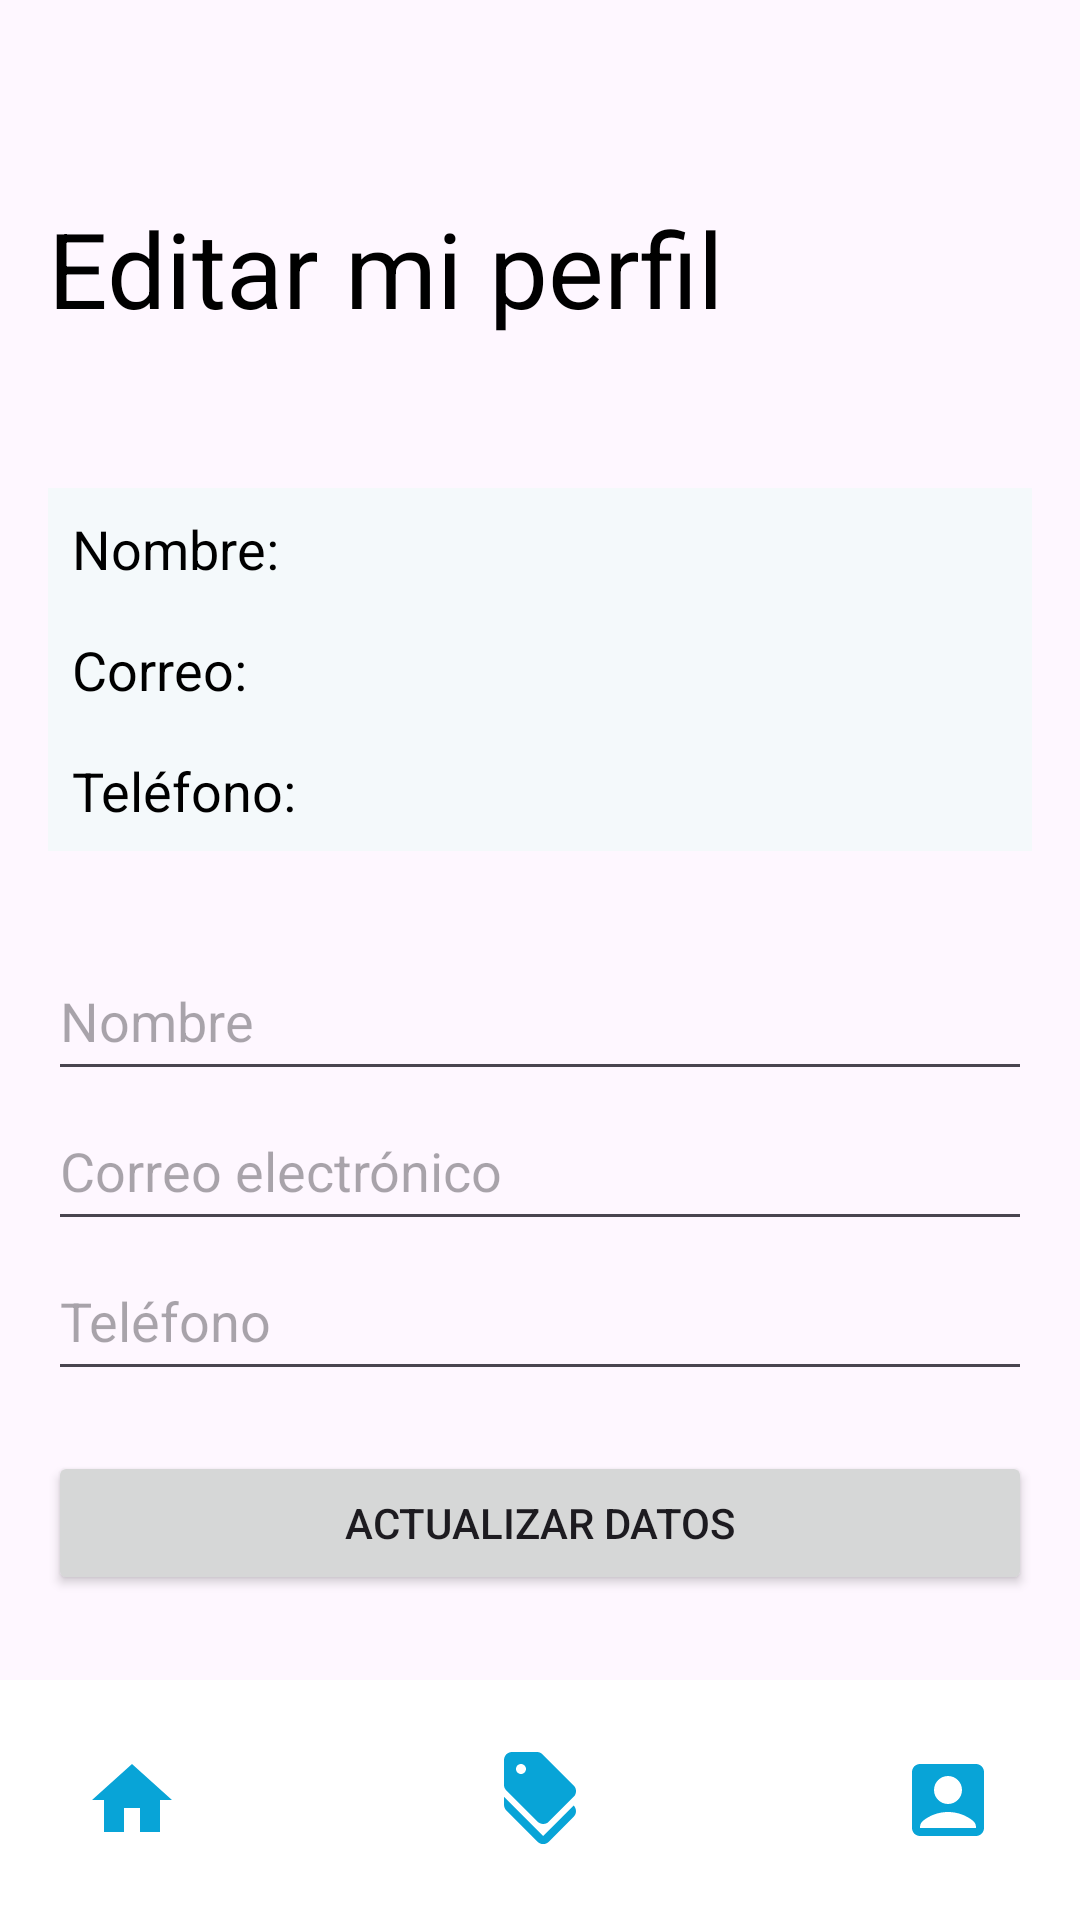

Locate icon controls on the screen. Image size 1080*1920, boxes as (x1, y1, x2, y2).
Disccount Icon: (504, 1752, 576, 1844)
Home Icon: (92, 1764, 172, 1832)
Profile Icon: (912, 1764, 984, 1836)
